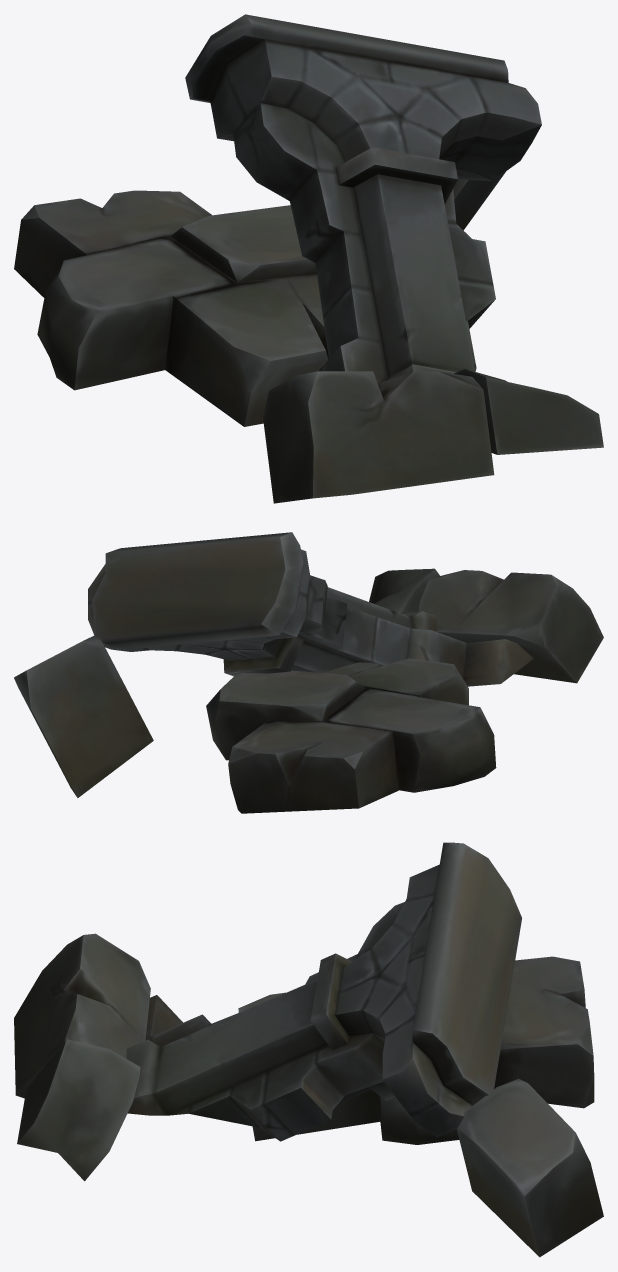
3 views of the same model, one above another, from view 1: azimuth 30°, elevation 25°; view 2: azimuth 150°, elevation 25°; view 3: azimuth 270°, elevation 25° (orthographic). The views are drawn at different scales.
Visible parts, largest first — view 1: models_ruins_blocks_03-0-model; view 2: models_ruins_blocks_03-0-model; view 3: models_ruins_blocks_03-0-model.
Part boxes in pixels (x1,y1,x2,y2): models_ruins_blocks_03-0-model: (14, 14, 603, 503); models_ruins_blocks_03-0-model: (14, 532, 603, 813); models_ruins_blocks_03-0-model: (14, 842, 603, 1257).
Bounding box in the file's own units: 7.63 × 4.73 × 8.05.
1 material, 1 textured.
